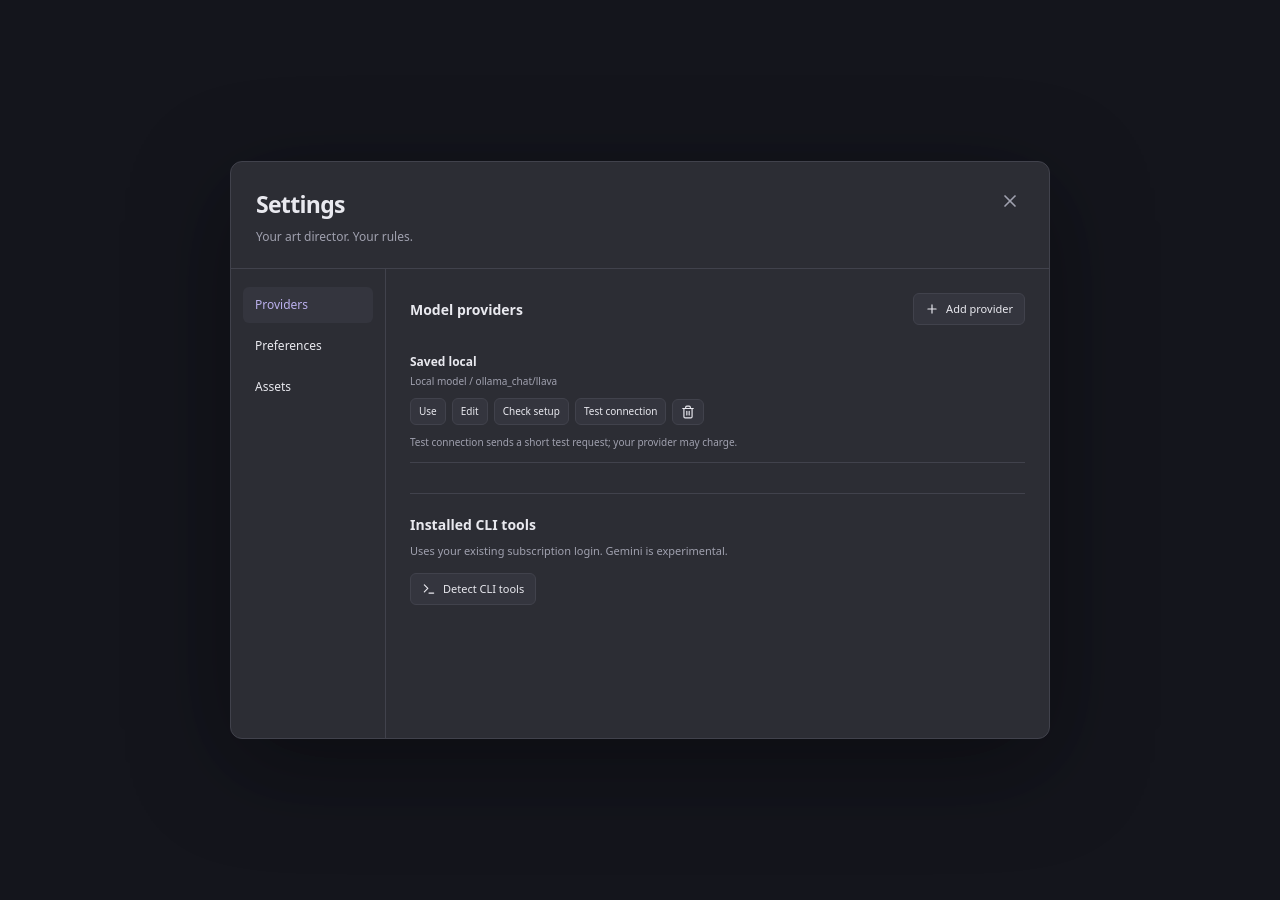
Test: keeps setup checks offline and only sends a paid-capable probe on explicit Test connection
This screenshot has width=1280, height=900.
Expected: the text "provider may charge" is shown, [410,435,737,449]
Click the button "Check setup" at (531, 412), box [494,398,569,425]
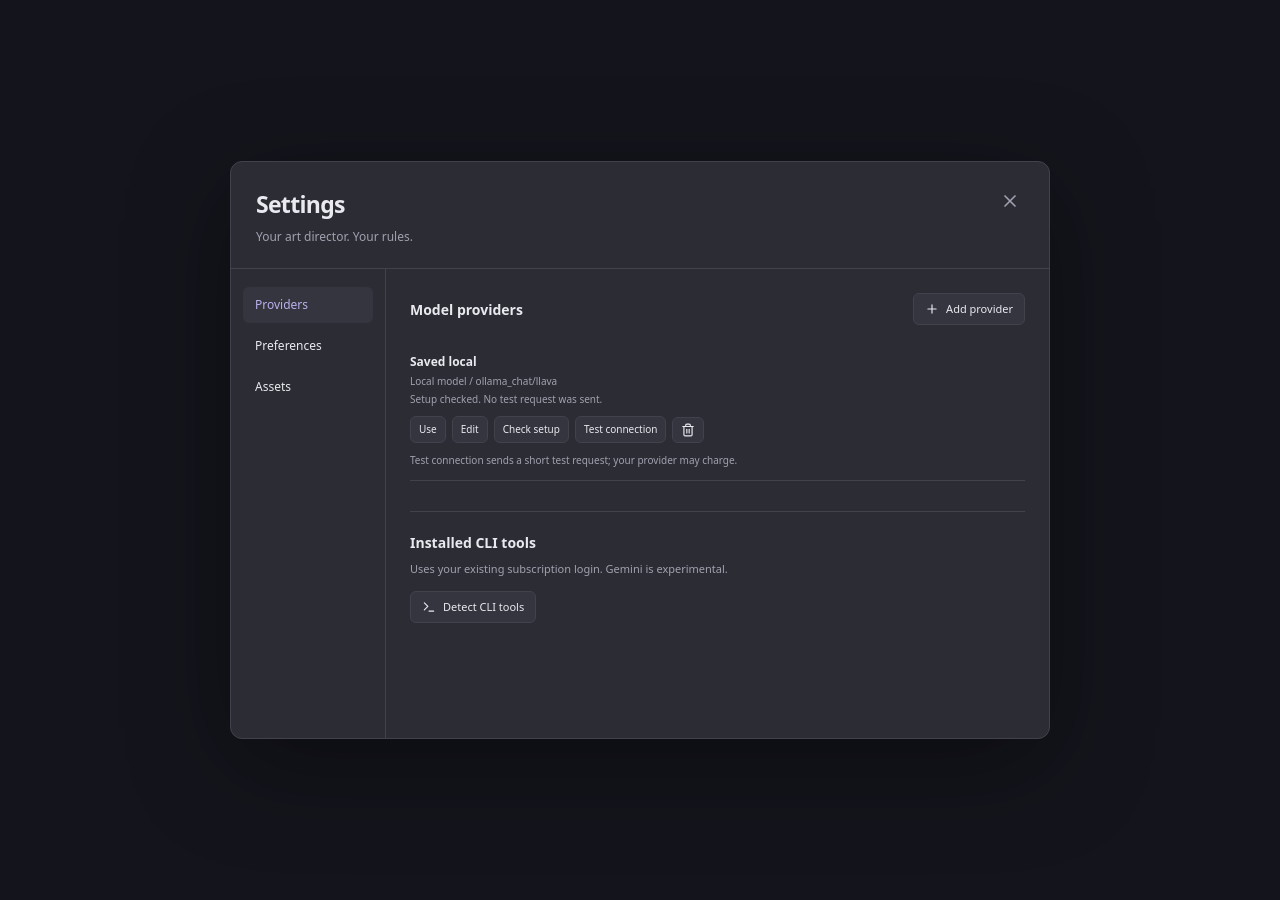
Expected: the text "Setup checked. No test request was sent." is shown, [410,392,602,407]
Click the button "Test connection" at (621, 430), box [575,416,666,443]
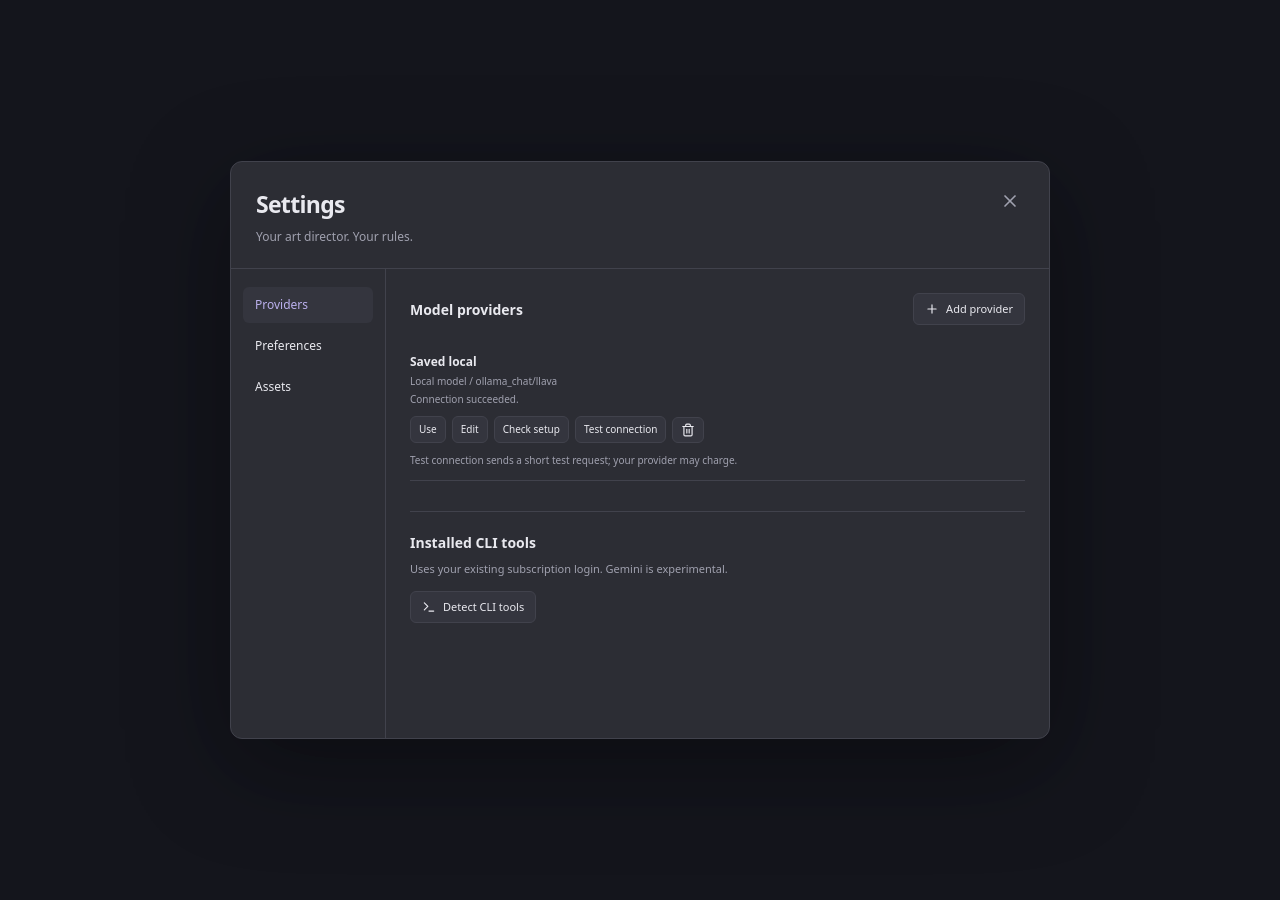
Expected: the text "Connection succeeded." is shown, [410,392,519,407]
